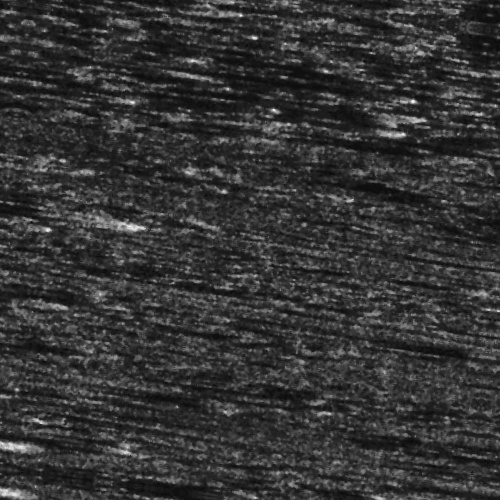object: (294, 105, 429, 116), (42, 131, 95, 136), (351, 74, 404, 79), (64, 113, 117, 116), (351, 94, 372, 97)
shadow: (138, 105, 361, 116), (198, 74, 378, 79), (181, 94, 361, 97), (0, 131, 68, 136), (0, 113, 90, 116), (462, 106, 500, 111)
